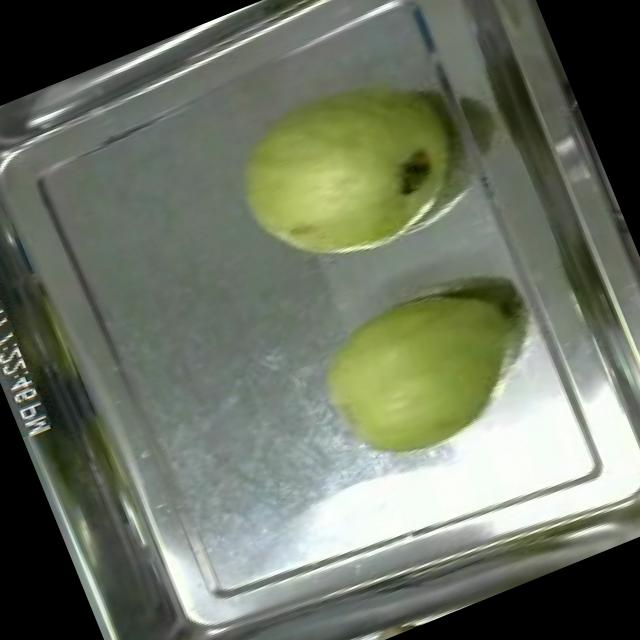Fruit: (204, 36, 496, 301), (291, 254, 552, 490)
